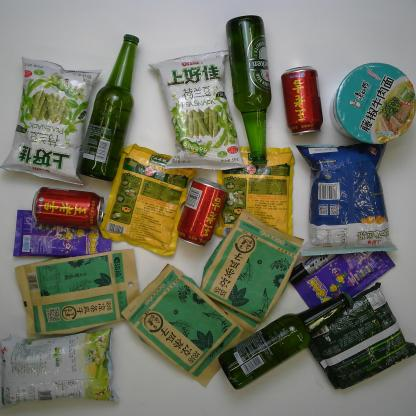Alcohol: (219, 292, 352, 390), (80, 34, 140, 180), (226, 15, 272, 166)
Candy: (292, 235, 396, 311), (13, 209, 116, 260)
Dried Food: (120, 263, 253, 390), (199, 210, 303, 333), (12, 246, 144, 338)
Drink: (177, 178, 228, 248), (32, 188, 105, 230), (282, 66, 324, 135)
Instant Noodles: (305, 283, 415, 390), (330, 63, 415, 144)
Puffed Food: (1, 57, 101, 186), (294, 139, 398, 257), (148, 48, 247, 171), (0, 327, 119, 410)
Seasoner: (100, 143, 202, 256), (211, 145, 296, 249)
Stationery: (286, 246, 340, 286)
